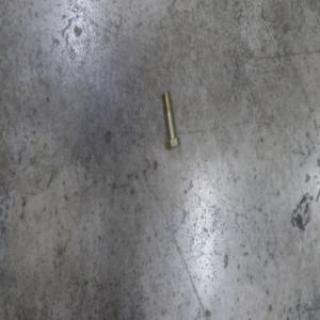Bolttrack_idkeyframe: (161, 90, 180, 150)
